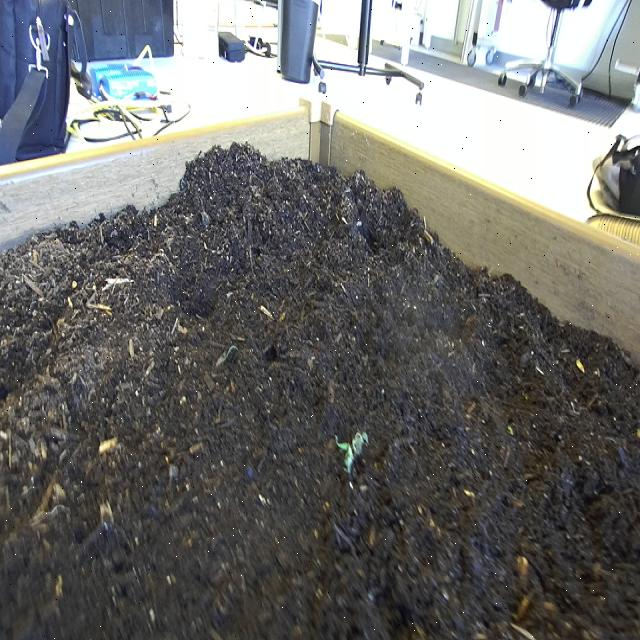Unhealthy: (334, 432, 356, 480), (352, 429, 370, 458)
